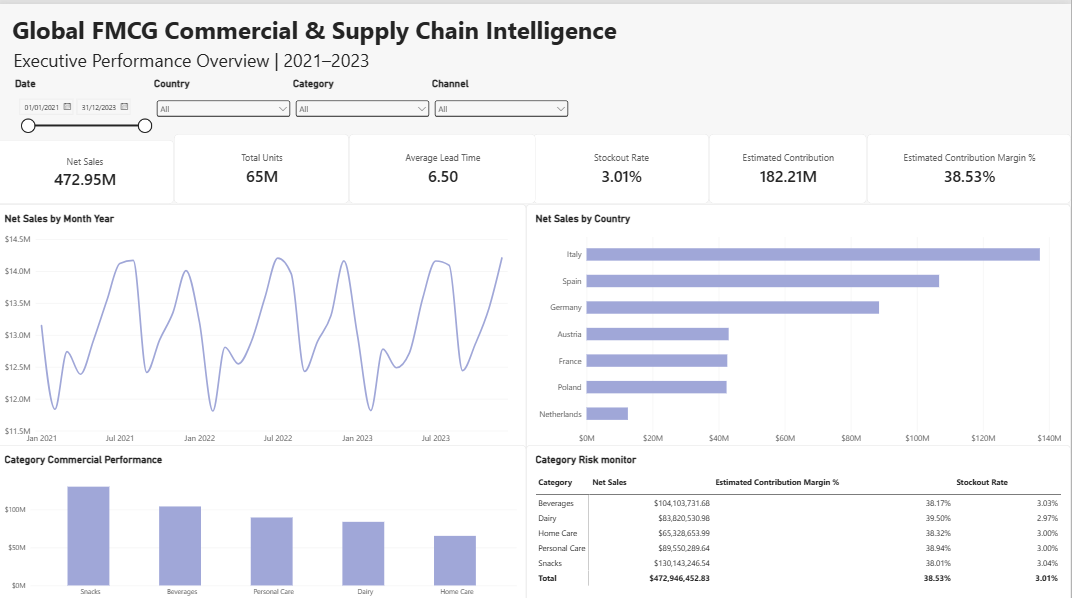

The page's visual inventory and layout, read from the dashboard file:
{"tool":"powerbi","page":{"name":"01 Executive Overview","canvas":[1920,1080],"ordinal":0},"visuals":[{"type":"textbox","box":[10.7,16.1,1118.8,60.7],"z":0},{"type":"textbox","box":[10.7,76.7,679.9,53.5],"z":1000},{"type":"slicer","title":"Date","fields":{"Values":["DimDate.Date"]},"box":[35.7,130.3,248,101.7],"z":2000},{"type":"slicer","title":"Country","fields":{"Values":["DimStore.country"]},"box":[283.7,130.3,248,101.7],"z":3000},{"type":"slicer","title":"Category","fields":{"Values":["DimProduct.category"]},"box":[531.7,130.3,248,101.7],"z":4000},{"type":"slicer","title":"Channel","fields":{"Values":["DimStore.channel"]},"box":[779.8,130.3,248,101.7],"z":5000},{"type":"cardVisual","fields":{"Data":["_Measures.Net Sales"]},"box":[0,242.7,319.4,114.2],"z":6000},{"type":"cardVisual","fields":{"Data":["_Measures.Estimated Contribution"]},"box":[1274.1,232,281.9,124.9],"z":7000},{"type":"cardVisual","fields":{"Data":["_Measures.Estimated Contribution Margin %"]},"box":[1556,232,364,124.9],"z":8000},{"type":"cardVisual","fields":{"Data":["_Measures.Total Units"]},"box":[319.4,232,312.3,124.9],"z":9000},{"type":"cardVisual","fields":{"Data":["_Measures.Stockout Rate"]},"box":[960,232,314.1,124.9],"z":10000},{"type":"cardVisual","fields":{"Data":["_Measures.Average Lead Time"]},"box":[631.7,232,333.7,124.9],"z":11000},{"type":"lineChart","fields":{"Category":["DimDate.Month Year"],"Y":["_Measures.Net Sales"]},"box":[0,356.9,947.5,449.7],"z":12000},{"type":"clusteredBarChart","title":"Net Sales by Country","fields":{"Category":["DimStore.country"],"Y":["_Measures.Net Sales"]},"box":[947.5,356.9,972.5,449.7],"z":13000},{"type":"clusteredColumnChart","title":"Category Commercial Performance","fields":{"Y":["_Measures.Net Sales"],"Category":["DimProduct.category"]},"box":[0,786.9,947.5,292.6],"z":14000},{"type":"pivotTable","title":"Category Risk monitor","fields":{"Rows":["DimProduct.category"],"Values":["_Measures.Net Sales","_Measures.Estimated Contribution Margin %","_Measures.Stockout Rate"]},"box":[947.5,786.9,972.5,292.6],"z":15000}]}

Visuals, with their boxes in screenshot pixels (x1, y1, x2, y2), scaled from the page's 1920x1080 canvas onto the 1074x598 screenshot:
textbox: rect(6, 9, 632, 43)
textbox: rect(6, 42, 386, 72)
"Date" slicer: rect(20, 72, 159, 128)
"Country" slicer: rect(159, 72, 297, 128)
"Category" slicer: rect(297, 72, 436, 128)
"Channel" slicer: rect(436, 72, 575, 128)
cardVisual - _Measures.Net Sales: rect(0, 134, 179, 198)
cardVisual - _Measures.Estimated Contribution: rect(713, 128, 870, 198)
cardVisual - _Measures.Estimated Contribution Margin %: rect(870, 128, 1073, 198)
cardVisual - _Measures.Total Units: rect(179, 128, 353, 198)
cardVisual - _Measures.Stockout Rate: rect(537, 128, 713, 198)
cardVisual - _Measures.Average Lead Time: rect(353, 128, 540, 198)
lineChart - DimDate.Month Year x _Measures.Net Sales: rect(0, 198, 530, 447)
"Net Sales by Country" clusteredBarChart: rect(530, 198, 1073, 447)
"Category Commercial Performance" clusteredColumnChart: rect(0, 436, 530, 597)
"Category Risk monitor" pivotTable: rect(530, 436, 1073, 597)
